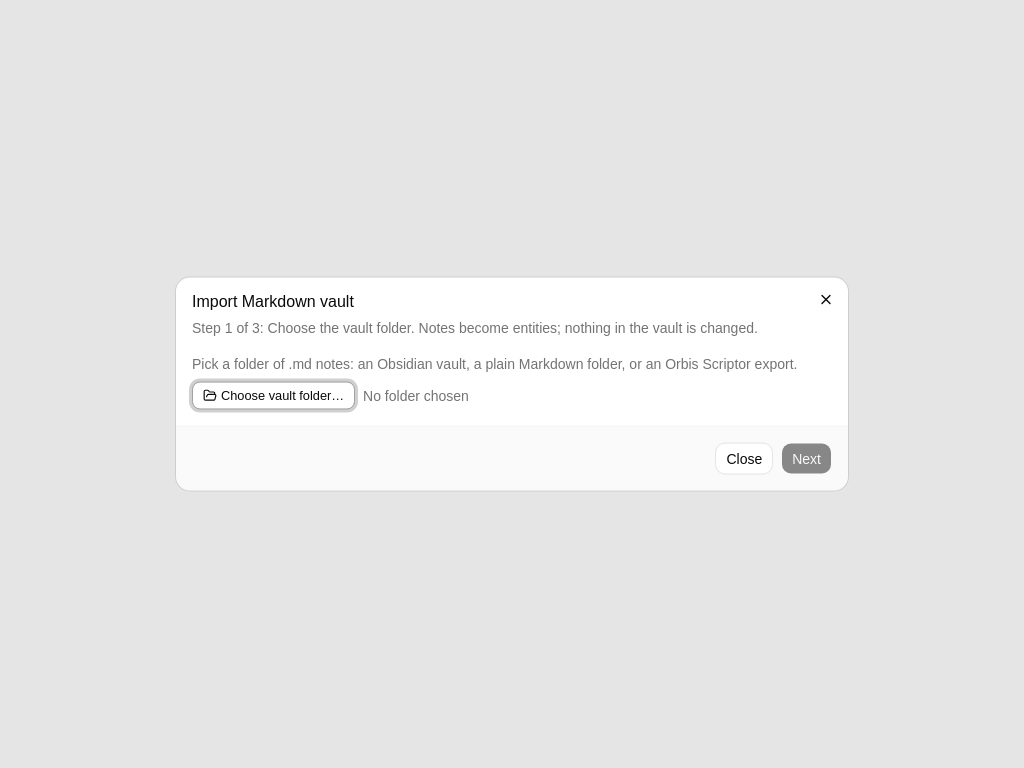
Test: ImportWizard › shows the preview: counts by type, new types, stats and warnings
The image size is (1024, 768).
Step 1. Click the button "Choose vault folder…" → (274, 396), box [192,382,355,410]
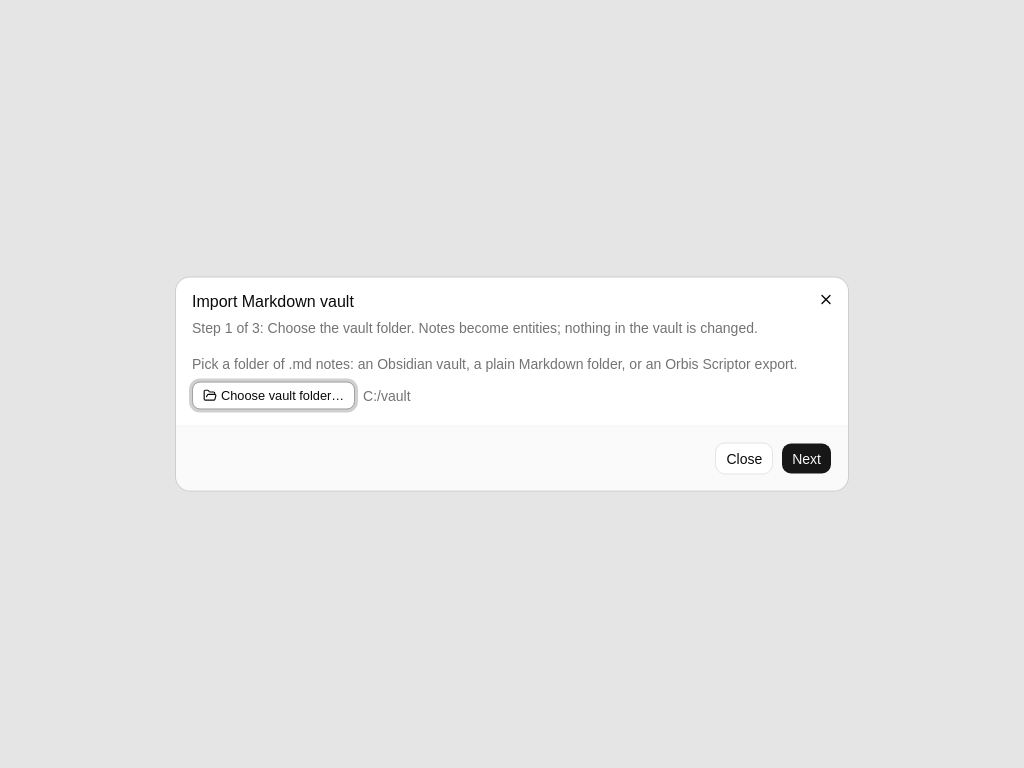
Expected: the text "C:/vault" is shown, [363,386,411,406]
Step 2. Click the button "Next" → (807, 458), box [781,442,832,474]
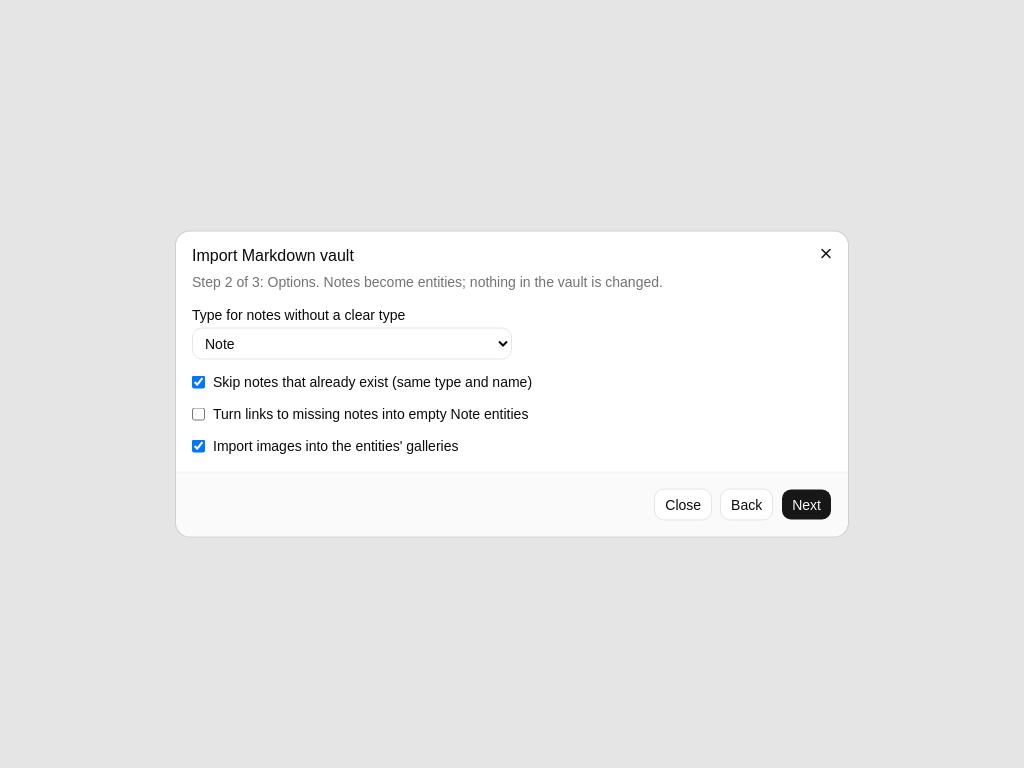
Step 3. Click the button "Next" → (807, 504), box [781,488,832,520]
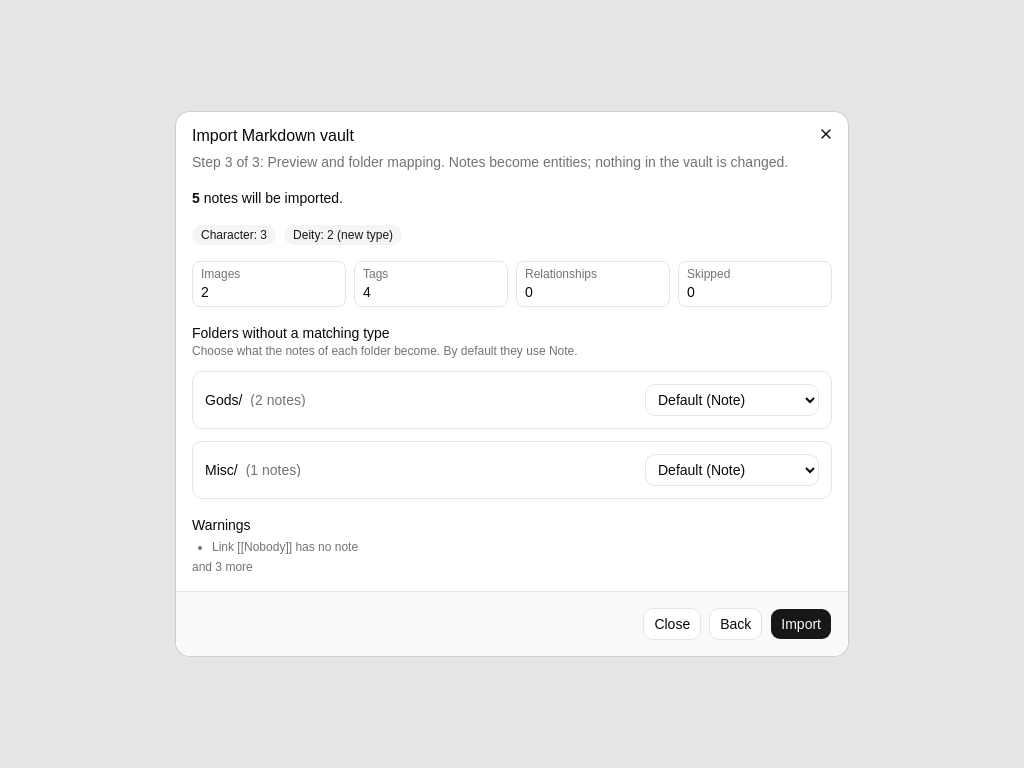
Expected: the element named "Folder mapping" is shown, [192,323,832,499]
Expected: the message shows "5 notes will be imported", [192,190,343,206]
Expected: the text "Deity: 2 (new type)" is shown, [284,225,402,245]
